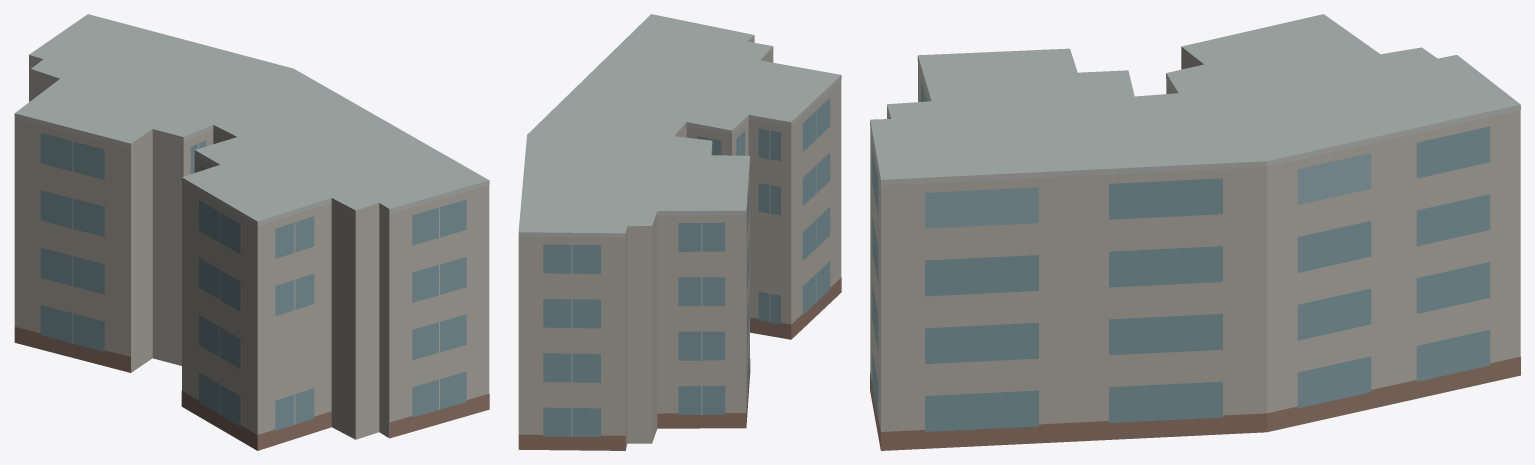
The model's file is survey-upis-32770336.glb.
The picture shows the model from 3 angles, left to right: view 1: azimuth 30°, elevation 25°; view 2: azimuth 150°, elevation 25°; view 3: azimuth 270°, elevation 25°; orthographic projection. The views are drawn at different scales.
Visible parts, largest first — view 1: survey-upis-32770336.tmp; view 2: survey-upis-32770336.tmp; view 3: survey-upis-32770336.tmp.
Part boxes in pixels (x1,y1,x2,y2): survey-upis-32770336.tmp: [14, 14, 489, 450]; survey-upis-32770336.tmp: [518, 14, 841, 450]; survey-upis-32770336.tmp: [870, 14, 1520, 450].
Bounding box in the file's own units: 15.23 × 11.6 × 25.25.
